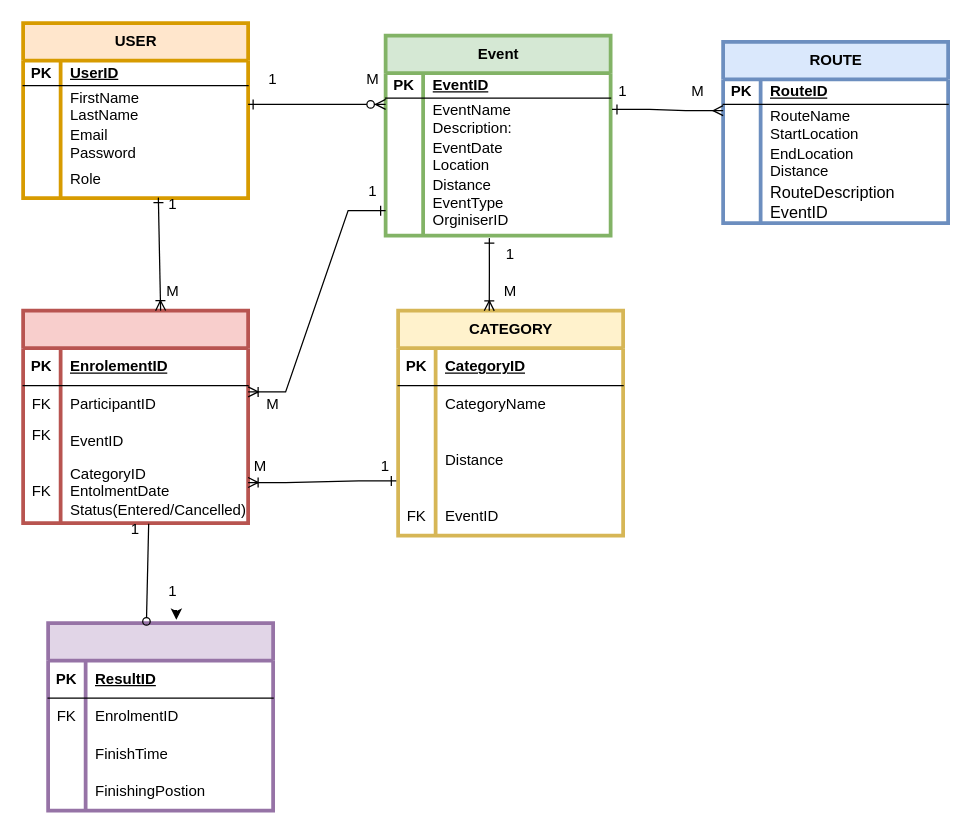
This 971x834 diagram has some shape labels left out. The shapes that lost their labels are listed below. From the top down, each one's box as (x1, y1, x2, y2) in pixels, then its label:
(21, 308, 249, 524): Enrolment
(46, 621, 274, 812): RESULTS
